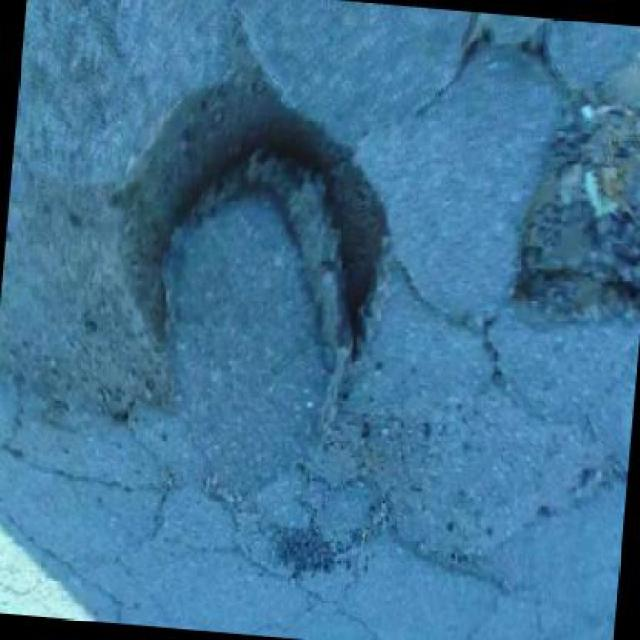pothole1: (94, 46, 408, 409), (502, 69, 638, 334)
